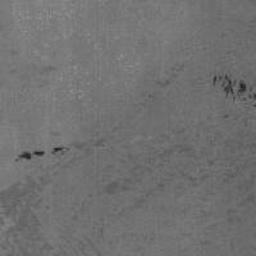Inclusion: (211, 73, 256, 108), (13, 146, 69, 163), (223, 114, 230, 120)
